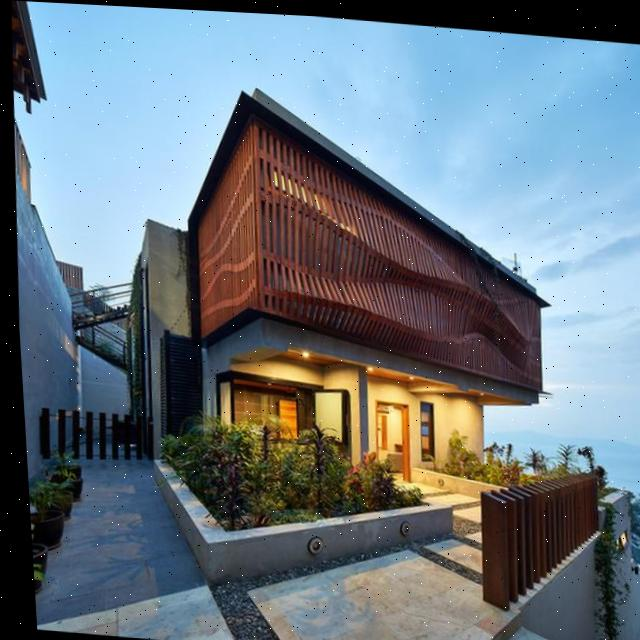building: (116, 73, 563, 500)
